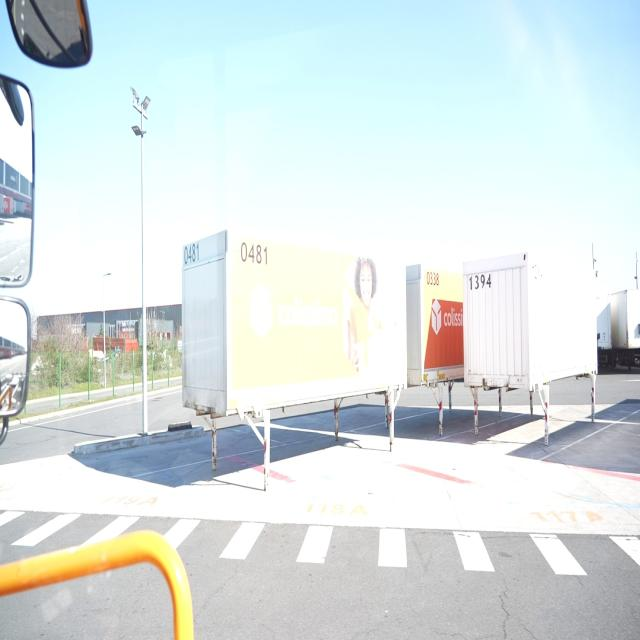Code: (238, 238, 272, 272), (466, 272, 493, 293), (182, 241, 201, 269), (425, 268, 441, 290)
